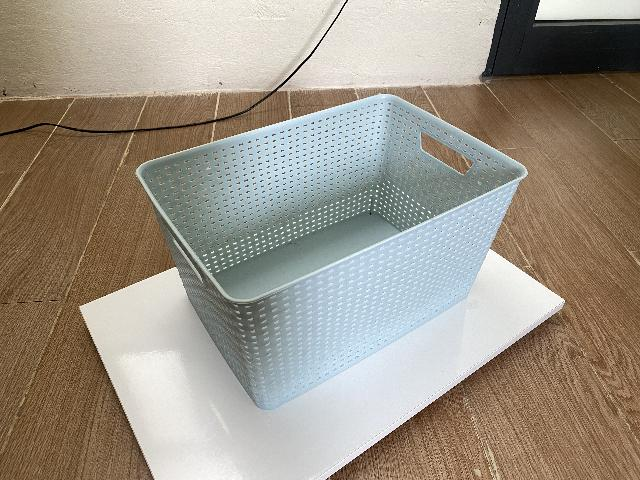cart: (135, 95, 527, 410)
